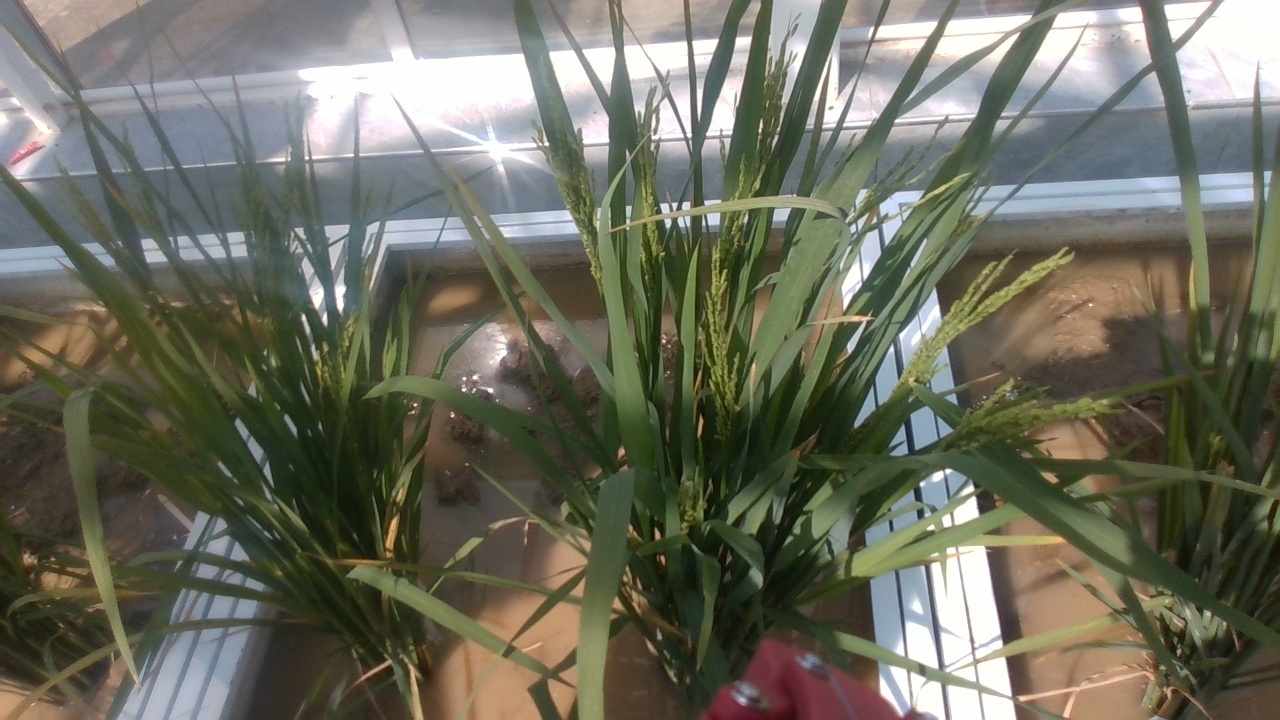panicle: (887, 239, 1067, 375), (523, 117, 597, 255), (624, 69, 678, 227), (946, 394, 1100, 446), (748, 23, 807, 153), (697, 235, 733, 425)
